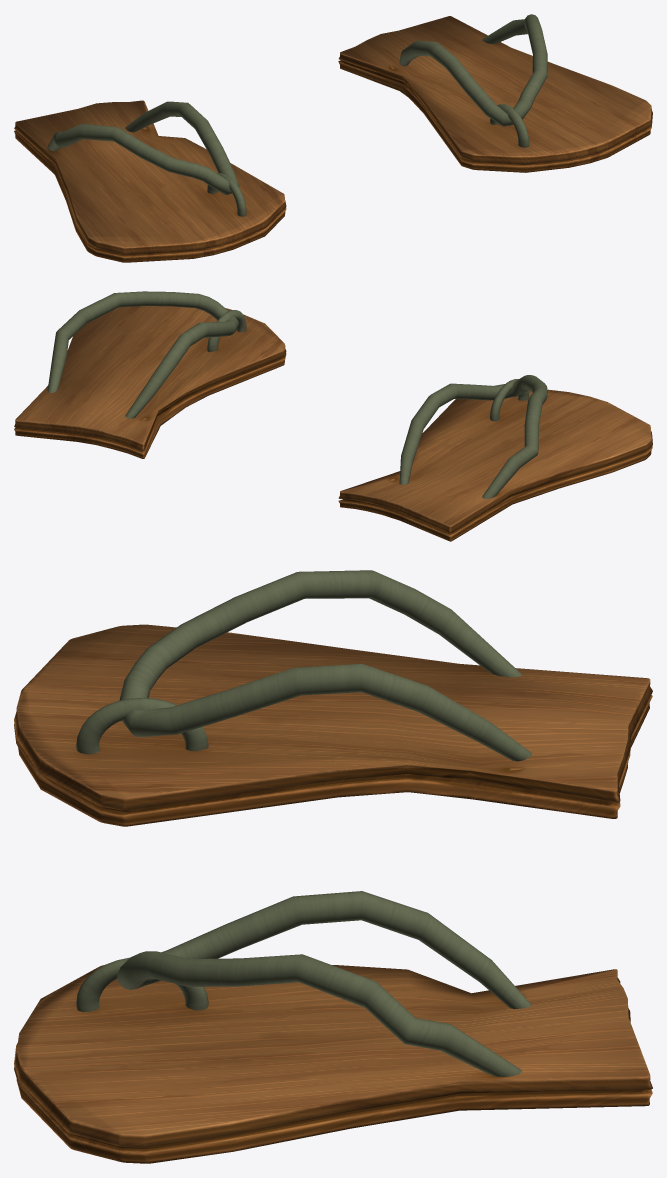
The model's file is Slapi despartiti.fbx.
3 views of the same model, one above another, from view 1: azimuth 30°, elevation 25°; view 2: azimuth 150°, elevation 25°; view 3: azimuth 270°, elevation 25° (orthographic). The views are drawn at different scales.
Visible parts, largest first — view 1: Sandale_low, Sandale_low.002; view 2: Sandale_low.002, Sandale_low; view 3: Sandale_low, Sandale_low.002.
Boxes of the visible parts, x1,y1,x2,y2 form: Sandale_low: (338, 14, 652, 172); Sandale_low.002: (14, 100, 286, 262); Sandale_low.002: (338, 375, 652, 541); Sandale_low: (14, 291, 286, 458); Sandale_low: (14, 891, 652, 1163); Sandale_low.002: (14, 570, 652, 826).
Bounding box in the file's own units: 53.22 × 7.05 × 28.08.
1 material, 1 textured.
